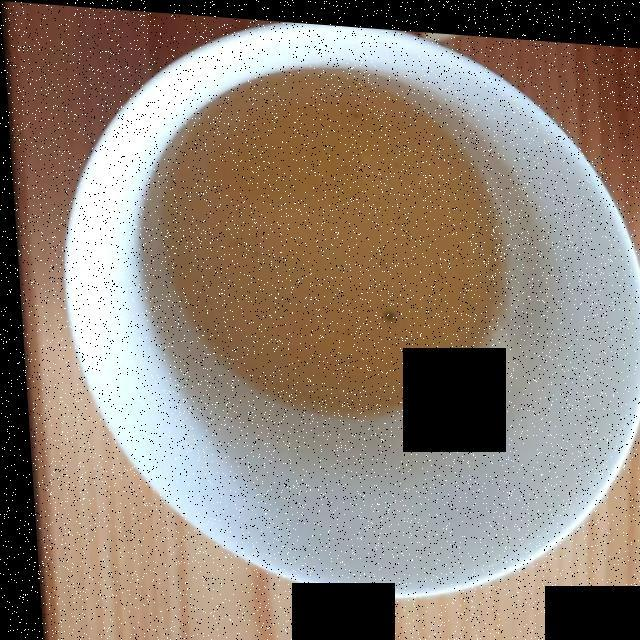tea: (152, 77, 502, 408)
